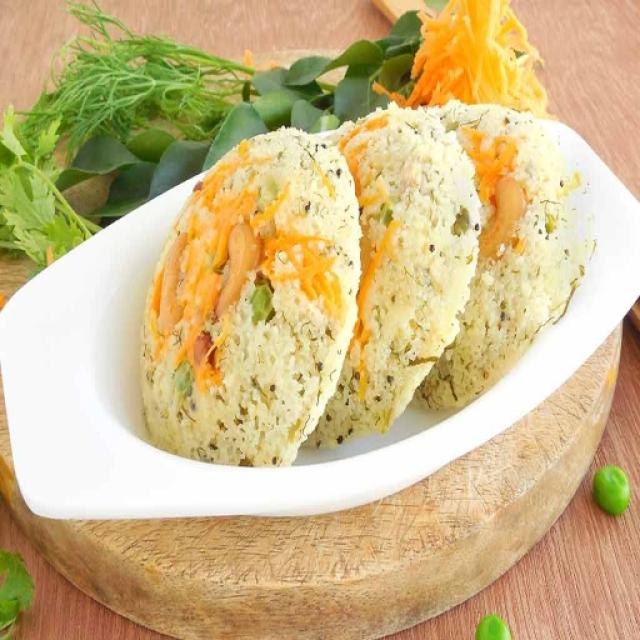IDLI: (141, 100, 601, 468)
